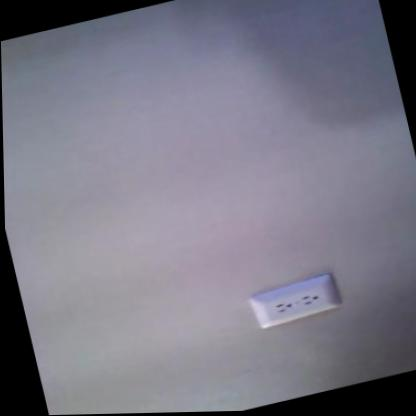OUTLET: (245, 271, 342, 331)
